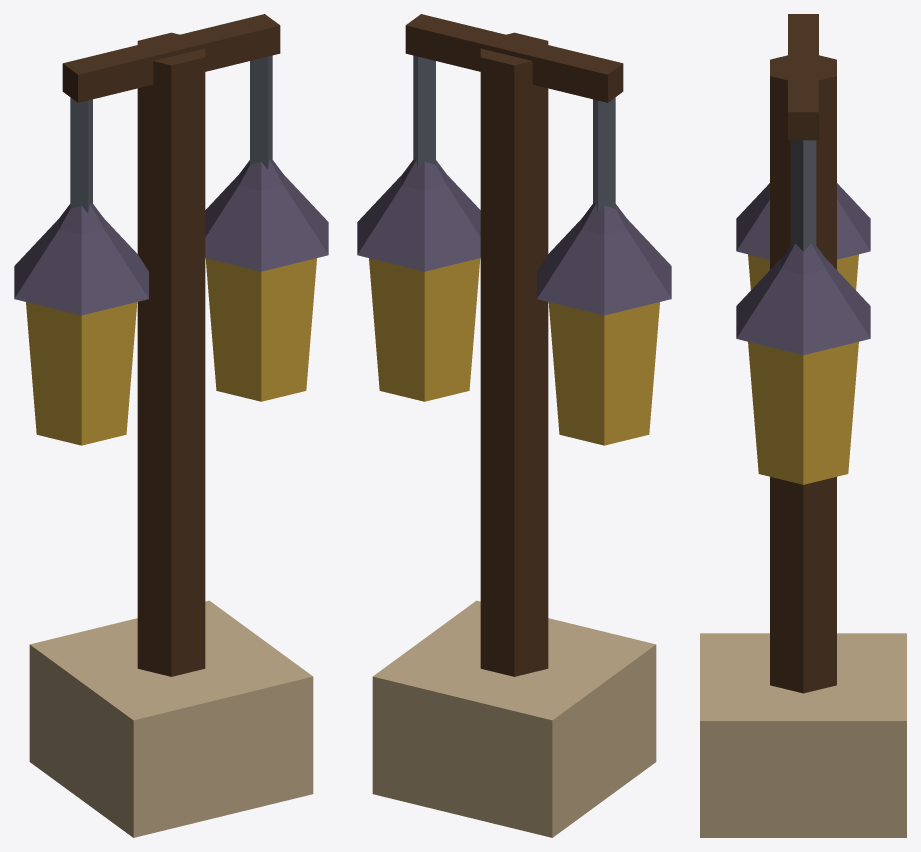
File: lamp_post_street.fbx
The picture shows the model from 3 angles, left to right: view 1: azimuth 30°, elevation 25°; view 2: azimuth 150°, elevation 25°; view 3: azimuth 270°, elevation 25°; orthographic projection.
Parts seen in each view (by area): view 1: lamp_post_street; view 2: lamp_post_street; view 3: lamp_post_street.
Part boxes in pixels (x1,y1,x2,y2): lamp_post_street: (14,14,328,837); lamp_post_street: (357,14,671,837); lamp_post_street: (700,14,906,837).
Size of the model in its own units: 1.4 by 3.12 by 0.8.
Materials: 1 (1 with a texture image).
